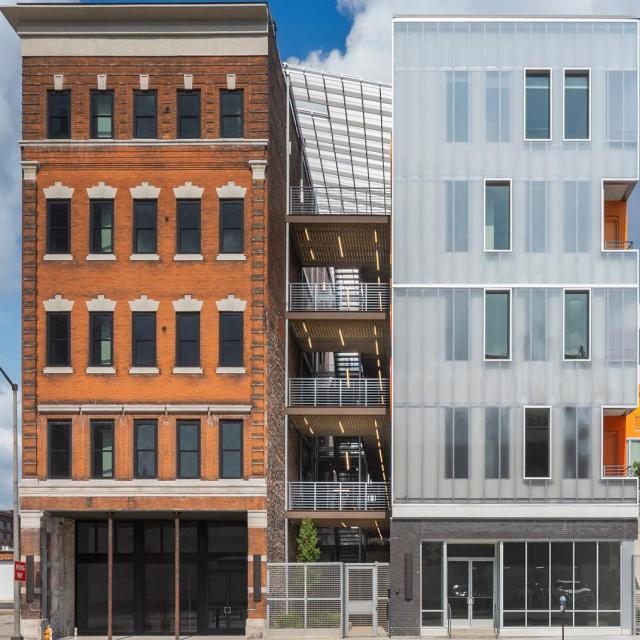Railing: (290, 480, 394, 510), (292, 183, 396, 212), (289, 280, 392, 309), (291, 377, 391, 405)
door: (444, 542, 502, 632)
wall: (0, 0, 640, 632)
windows: (75, 520, 246, 630), (420, 540, 621, 632), (525, 409, 552, 476), (486, 182, 512, 250), (486, 292, 511, 360), (526, 70, 551, 138), (566, 289, 590, 359), (564, 74, 588, 140), (88, 199, 112, 256), (88, 311, 111, 369), (89, 421, 112, 478), (178, 422, 198, 477), (175, 90, 198, 137), (48, 422, 68, 476), (47, 312, 67, 366), (48, 199, 68, 253), (132, 91, 156, 136), (219, 87, 241, 136), (177, 312, 196, 368), (178, 199, 197, 255), (222, 200, 242, 253), (223, 422, 242, 476), (222, 313, 241, 367), (136, 420, 154, 475), (136, 198, 154, 253), (135, 311, 153, 365), (48, 92, 67, 138), (94, 97, 114, 139)
